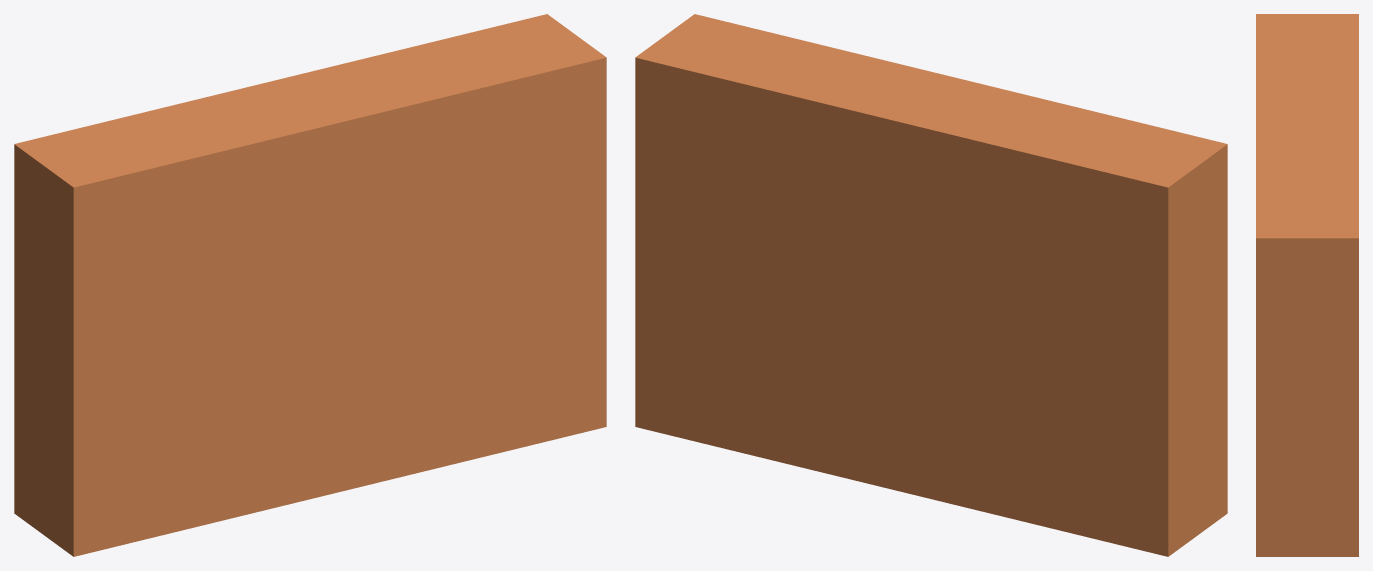
The model's file is SciFi_sprinkler_straight_coupling.DAE.
3 renders of one model, left to right at view 1: azimuth 30°, elevation 25°; view 2: azimuth 150°, elevation 25°; view 3: azimuth 270°, elevation 25°, orthographic. The views are drawn at different scales.
Parts seen in each view (by area): view 1: bounds; view 2: bounds; view 3: bounds.
Part boxes in pixels (bbox=[...]): bounds: bbox=[14, 14, 606, 556]; bounds: bbox=[635, 14, 1227, 556]; bounds: bbox=[1256, 14, 1358, 556].
Bounding box in the file's own units: 62.7 × 12.12 × 41.51.
